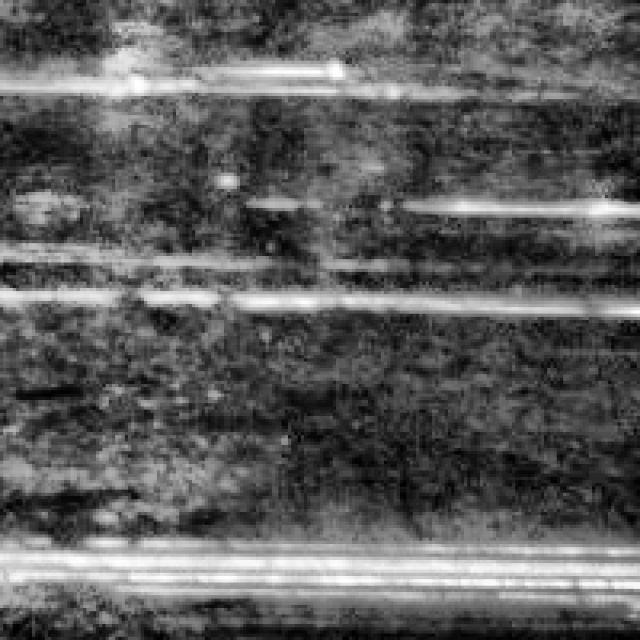Inclusion: (0, 528, 634, 630), (0, 272, 637, 320), (0, 48, 477, 102), (391, 179, 634, 218)
